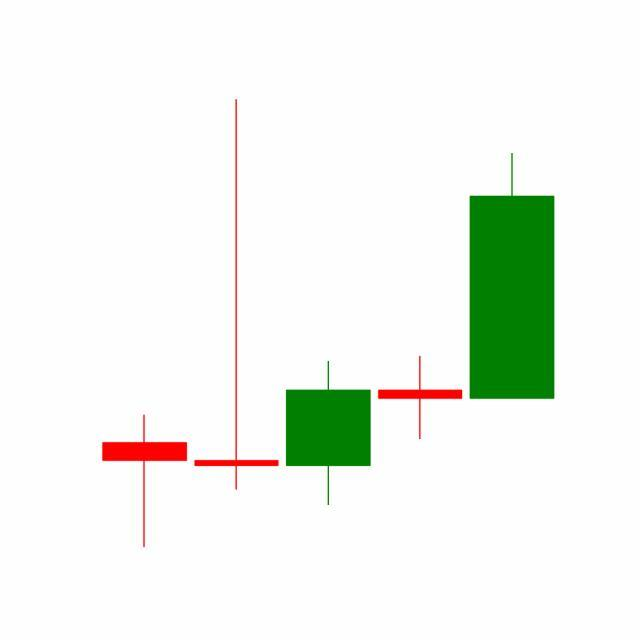Spinning Top: (374, 355, 468, 441)
